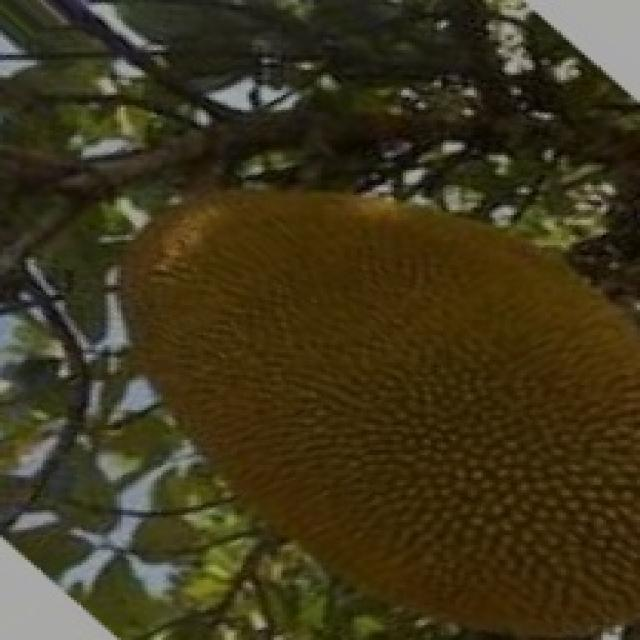Fruit: (280, 173, 640, 635)
